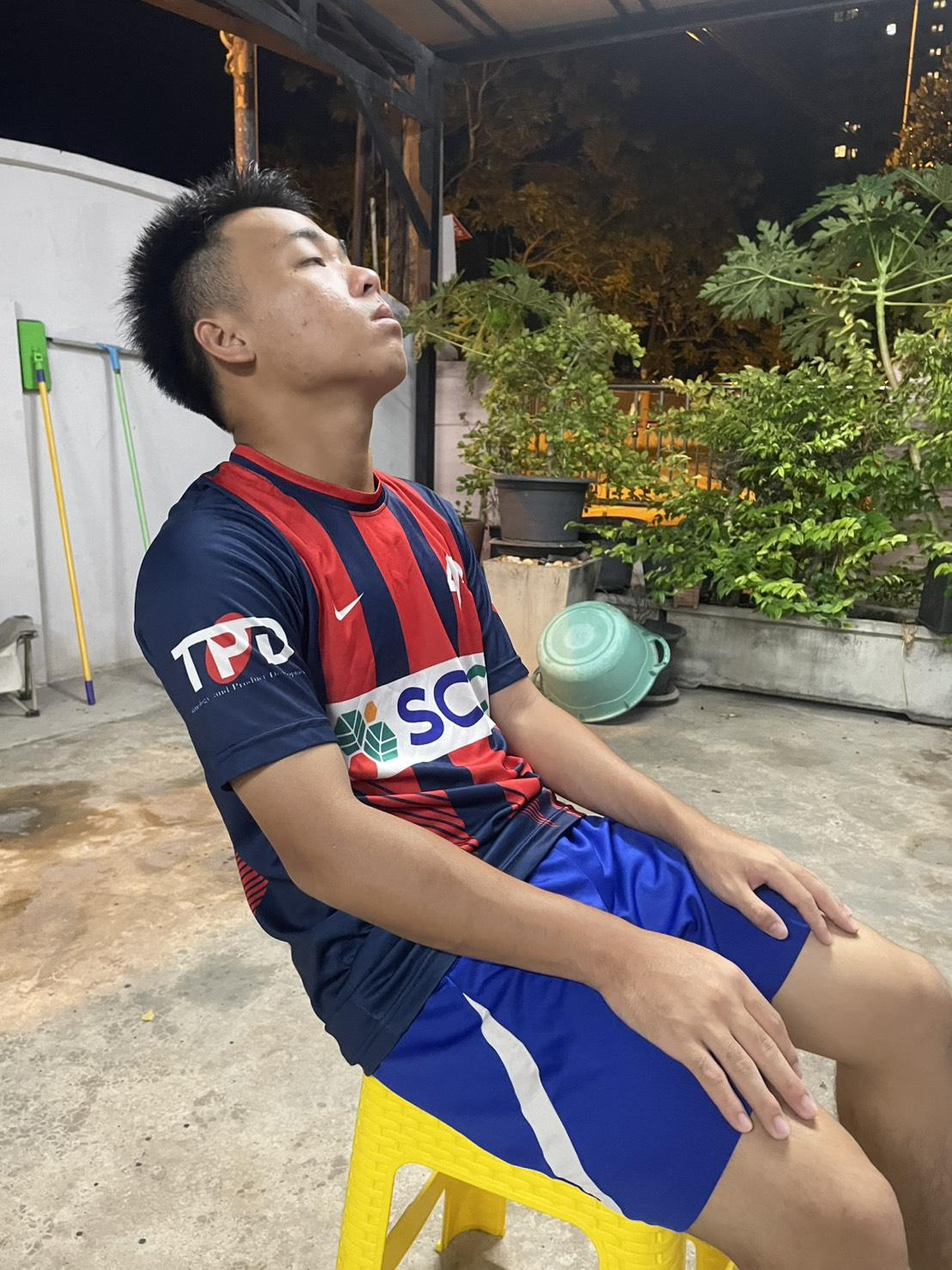BadPosture: (125, 171, 577, 1068)
